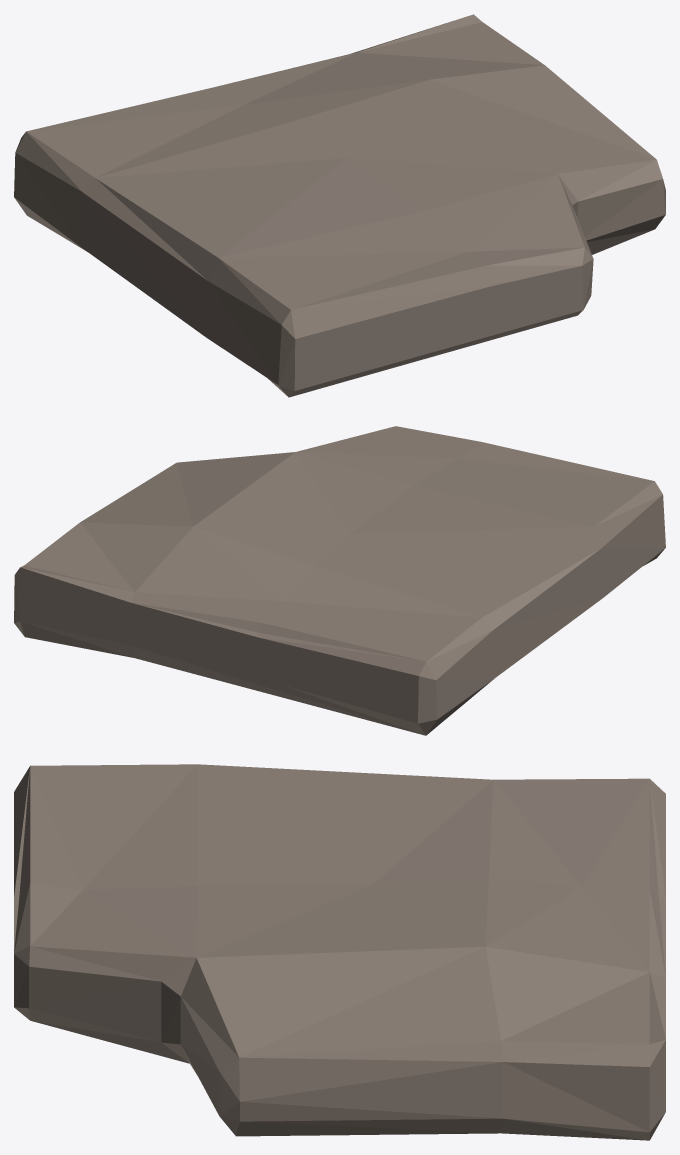
The model's file is test_Tile7.fbx.
The picture shows the model from 3 angles, top to bottom: view 1: azimuth 30°, elevation 25°; view 2: azimuth 150°, elevation 25°; view 3: azimuth 270°, elevation 25°; orthographic projection. The views are drawn at different scales.
Parts seen in each view (by area): view 1: Cube.147; view 2: Cube.147; view 3: Cube.147.
Part boxes in pixels (left/top/right/bottom): Cube.147: left=14, top=14, right=665, bottom=397; Cube.147: left=14, top=426, right=665, bottom=735; Cube.147: left=14, top=764, right=665, bottom=1140.
Size of the model in its own units: 212 by 44.44 by 210.
